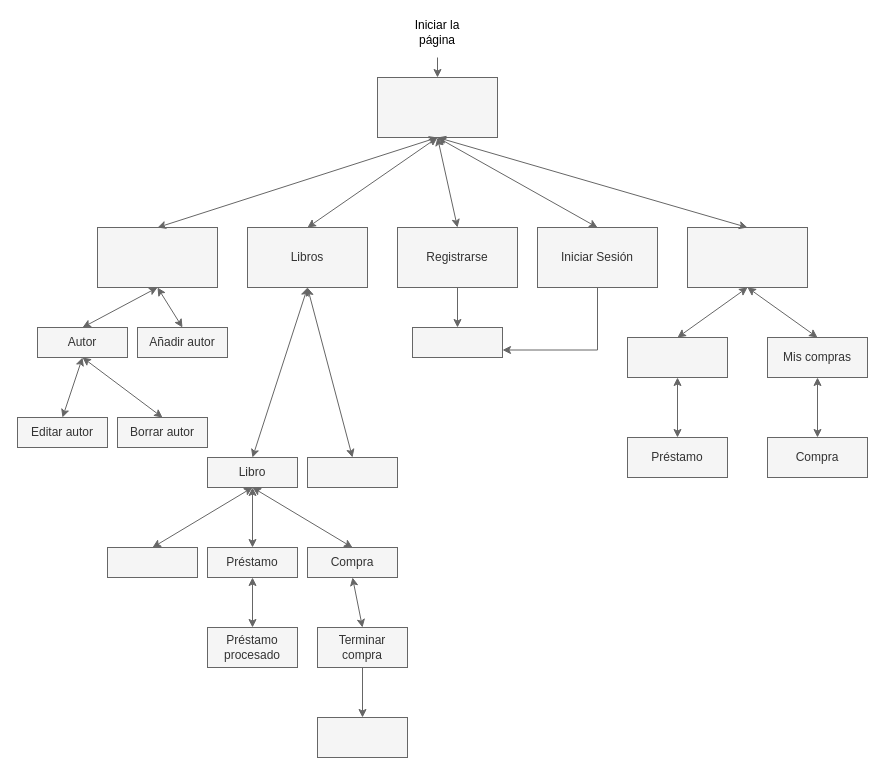
Image size: 885x775. Some labels were removed from this diagram. The centre of each missing label's shape, as x and y in pixels:
Autores: the point at 157,257
Añadir libro: the point at 352,472
Bienvenido: the point at 457,342
Compra procesada: the point at 362,737
Editar libro: the point at 152,562
Mis pedidos: the point at 747,257
Mis préstamos: the point at 677,357
Novedades: the point at 437,107
